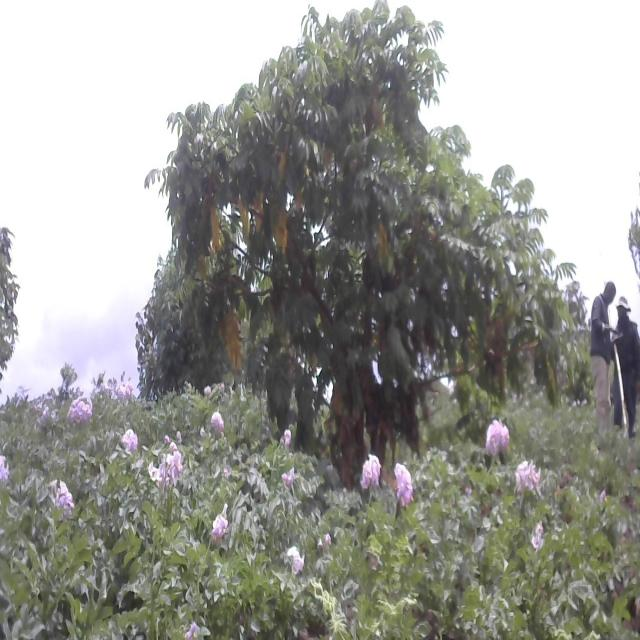Hagenia abyssinica: (139, 2, 585, 458)
